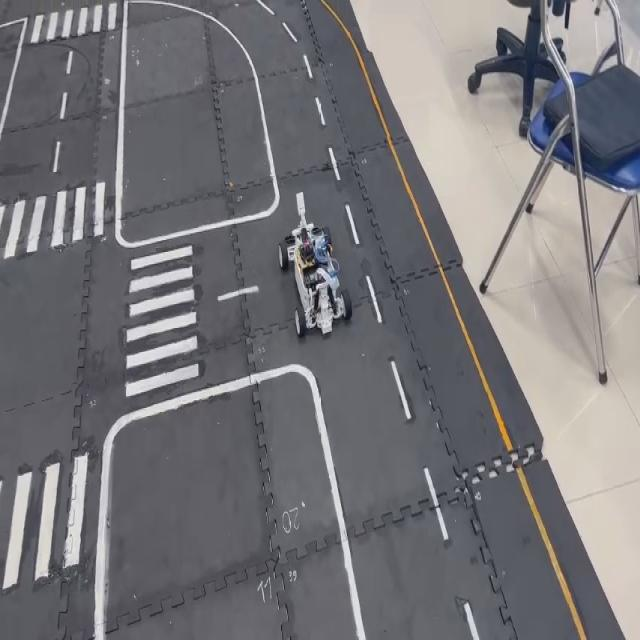SiCo-CAR: (277, 189, 353, 339)
